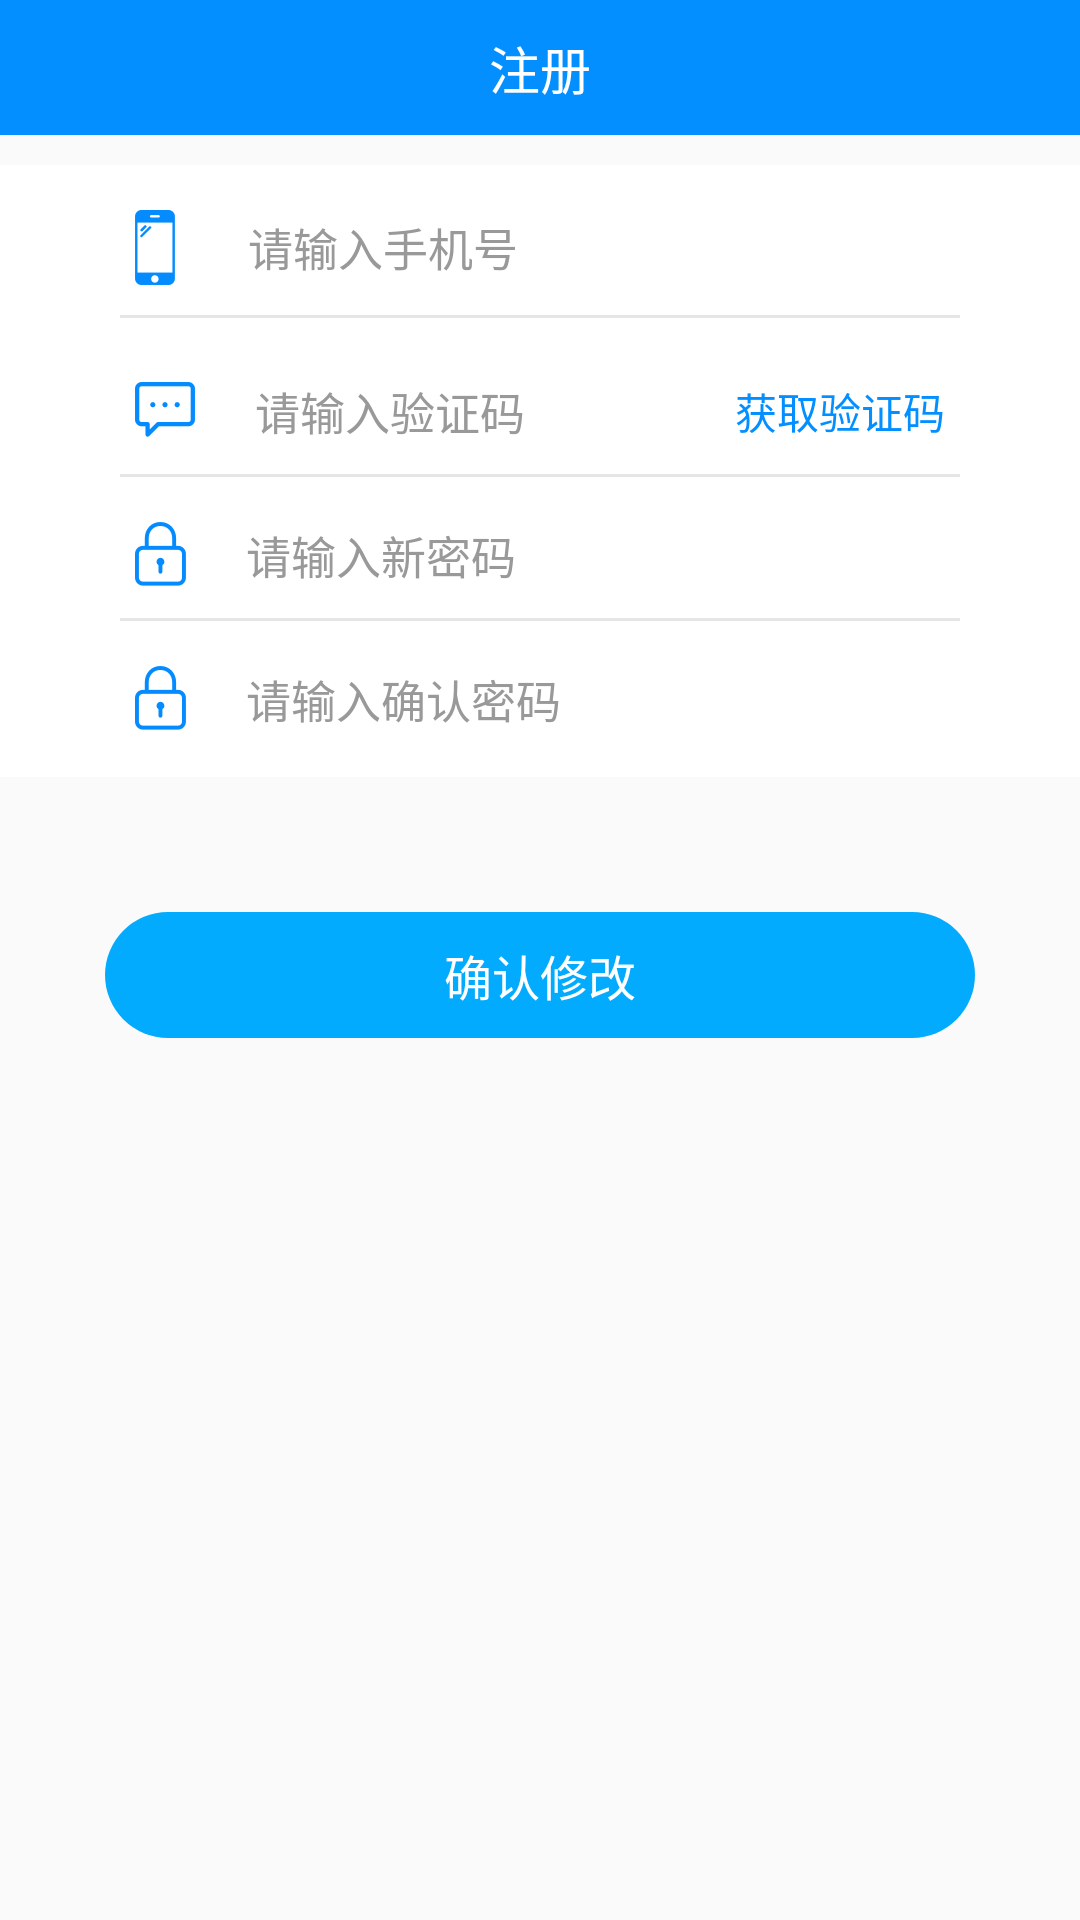

Named icons in this screenshot (1080*1920) and their bounding boxes, (x1, y1, x2, y2):
messge: (135, 382, 195, 437)
phone: (135, 210, 175, 285)
